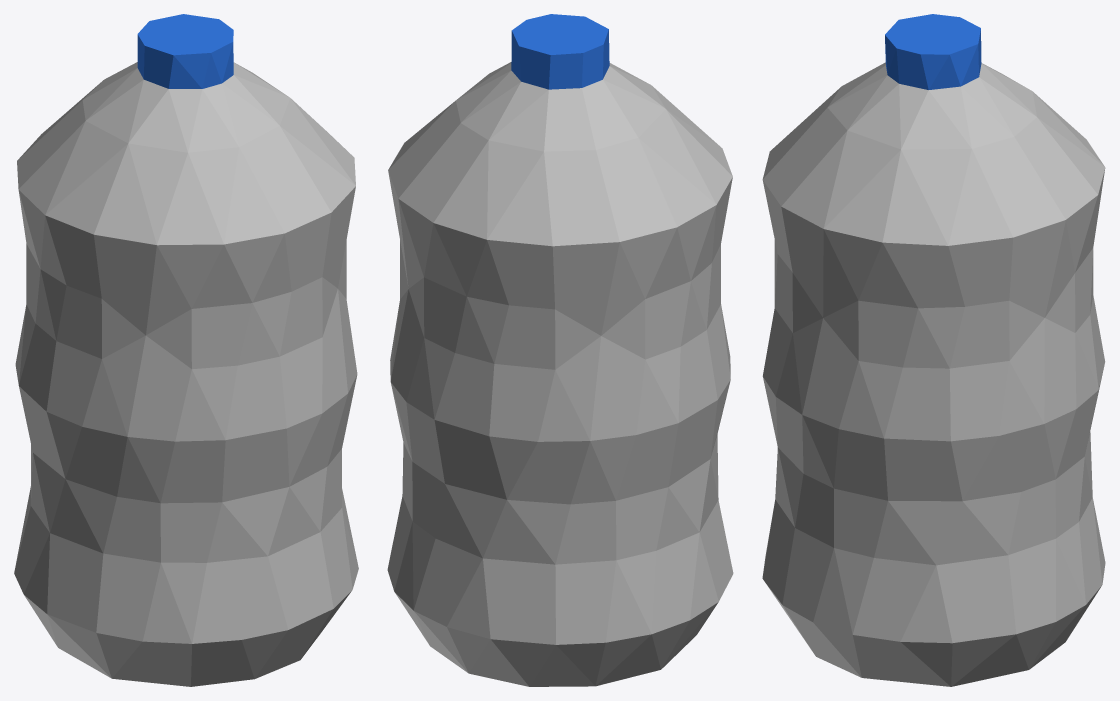
The model's file is bottle.fbx.
The picture shows the model from 3 angles, left to right: view 1: azimuth 30°, elevation 25°; view 2: azimuth 150°, elevation 25°; view 3: azimuth 270°, elevation 25°; orthographic projection.
Visible parts, largest first — view 1: Cylinder; view 2: Cylinder; view 3: Cylinder.
Boxes of the visible parts, box(x1,y1,x2,y2) form: Cylinder: box(14, 14, 358, 686); Cylinder: box(387, 14, 733, 686); Cylinder: box(762, 14, 1105, 686).
Size of the model in its own units: 249 by 476 by 249.
